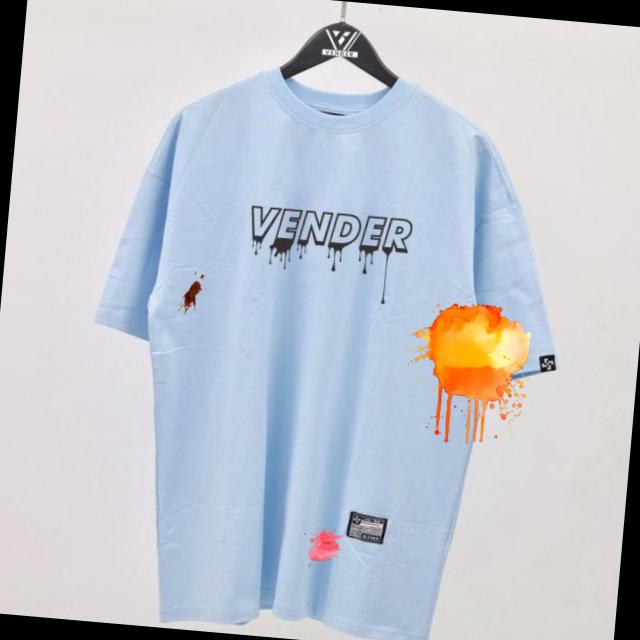stain: (408, 300, 528, 444), (301, 524, 346, 570), (174, 270, 208, 314)
